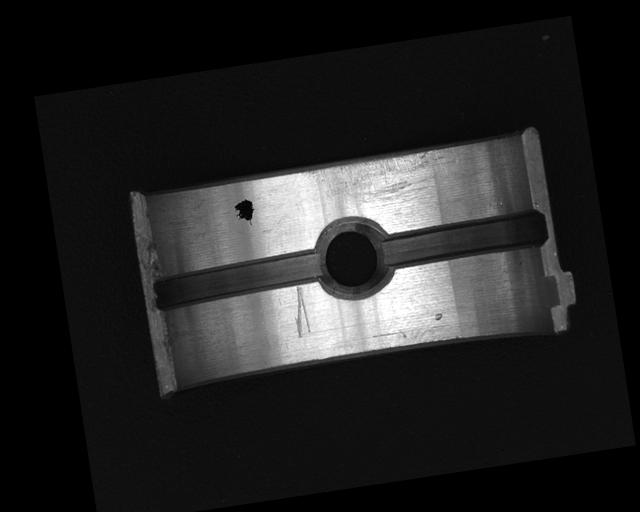blot: (231, 196, 257, 229)
bruise: (433, 312, 443, 322)
gap: (146, 246, 329, 316), (376, 208, 550, 274)
hole: (312, 213, 394, 301)
nick: (288, 284, 313, 339)
scratch: (299, 143, 465, 215)
